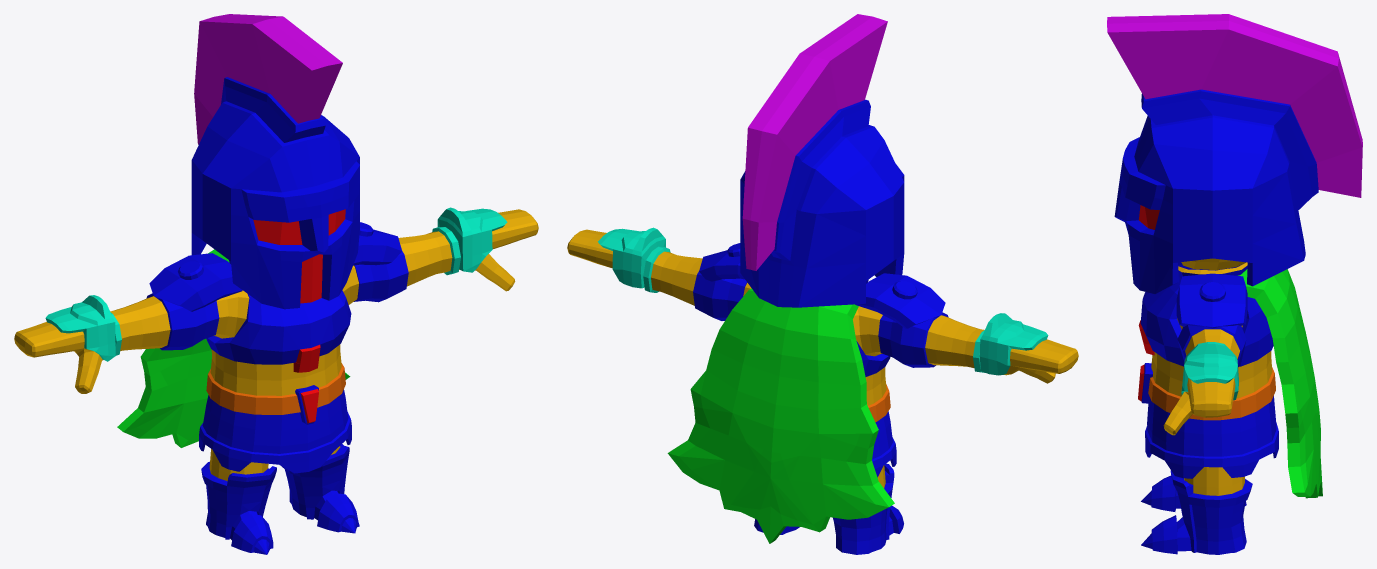
File: Robin.fbx
3 views of the same model, side by side, from view 1: azimuth 30°, elevation 25°; view 2: azimuth 150°, elevation 25°; view 3: azimuth 270°, elevation 25° (orthographic). The views are drawn at different scales.
Parts seen in each view (by area): view 1: Cloak01.001, Plane.001; view 2: Cloak01.001, Plane.001; view 3: Plane.001, Cloak01.001.
Part boxes in pixels (x1,y1,x2,y2): Cloak01.001: (14,207,538,554); Plane.001: (191,14,359,309); Cloak01.001: (567,227,1078,554); Plane.001: (740,14,904,307); Plane.001: (1107,14,1362,293); Cloak01.001: (1138,262,1322,554).
Size of the model in its own units: 446 by 412 by 190.
